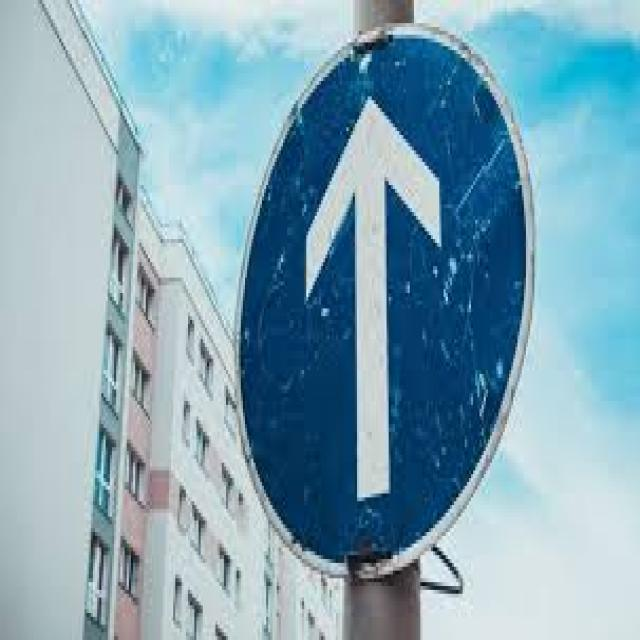STRAIGHT: (237, 23, 532, 574)
